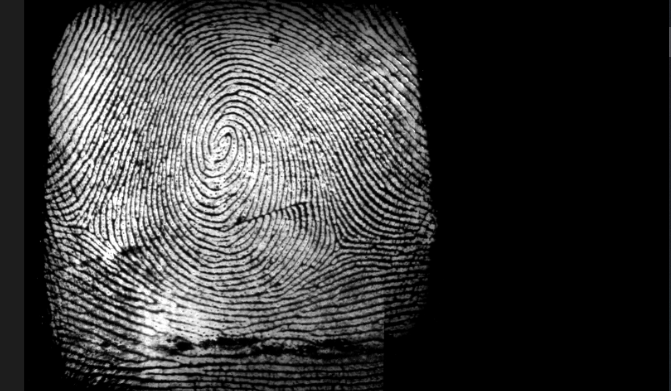nucelo: (204, 120, 240, 172)
verticilo: (70, 212, 107, 242), (324, 231, 354, 258)
